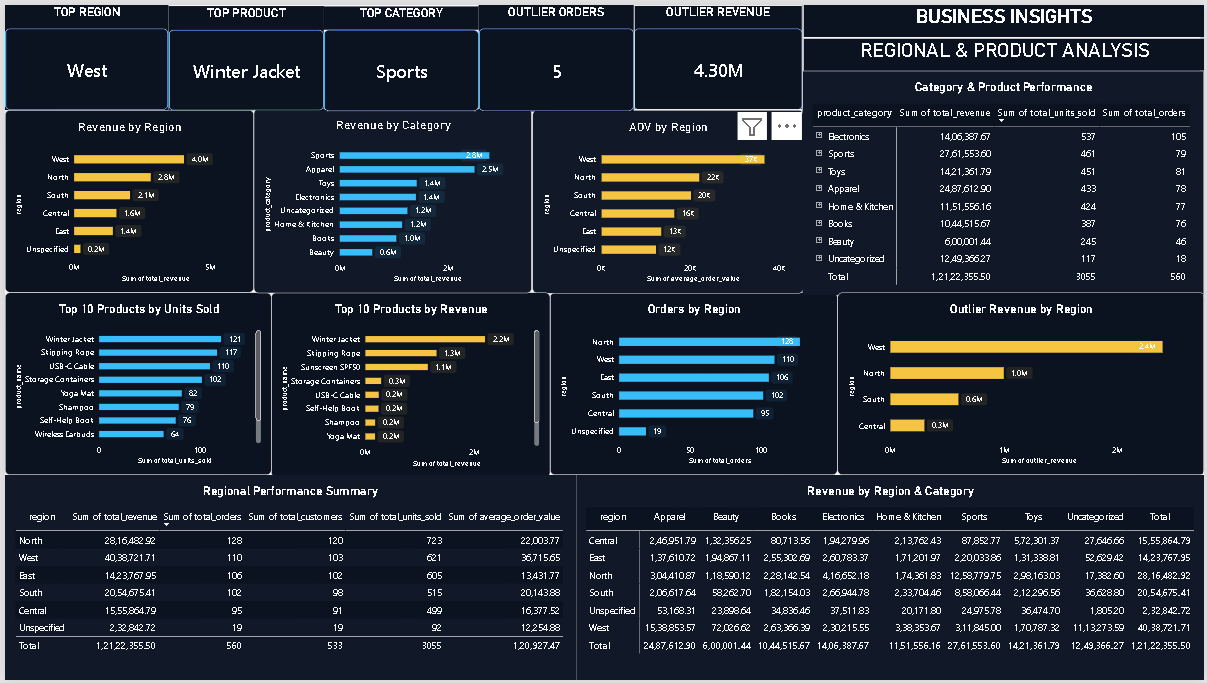

The dashboard page shown, as its layout file describes it:
{"tool":"powerbi","page":{"name":"Regional & Product Analysis","canvas":[1920,1080],"ordinal":1},"visuals":[{"type":"clusteredBarChart","title":"Revenue by Region","fields":{"Category":["public vw_regional_performance.region"],"Y":["Sum(public vw_regional_performance.total_revenue)"]},"box":[0,168,398,292],"z":0},{"type":"clusteredBarChart","title":"Orders by Region","fields":{"Category":["public vw_regional_performance.region"],"Y":["Sum(public vw_regional_performance.total_orders)"]},"box":[871.7,460,460,292],"z":1000},{"type":"clusteredBarChart","title":"AOV by Region","fields":{"Category":["public vw_regional_performance.region"],"Y":["Sum(public vw_regional_performance.average_order_value)"]},"box":[843.8,167.5,433.3,293.3],"z":3000},{"type":"clusteredBarChart","title":"Top 10 Products by Revenue","fields":{"Category":["public vw_product_performance.product_name"],"Y":["Sum(public vw_product_performance.total_revenue)"]},"box":[426,460,446,296],"z":4000},{"type":"clusteredBarChart","title":"Top 10 Products by Units Sold","fields":{"Category":["public vw_product_performance.product_name"],"Y":["Sum(public vw_product_performance.total_units_sold)"]},"box":[0,460,426.7,291.7],"z":5000},{"type":"clusteredBarChart","title":"Revenue by Category","fields":{"Category":["public vw_product_performance.product_category"],"Y":["Sum(public vw_product_performance.total_revenue)"]},"box":[398,166,445,295],"z":6000},{"type":"pivotTable","title":"Category & Product Performance","fields":{"Rows":["public vw_product_performance.product_category","public vw_product_performance.product_name"],"Values":["Sum(public vw_product_performance.total_revenue)","Sum(public vw_product_performance.total_units_sold)","Sum(public vw_product_performance.total_orders)"]},"box":[1276.7,105,643.3,358.3],"z":8000},{"type":"pivotTable","title":"Revenue by Region & Category","fields":{"Columns":["public vw_region_category_performance.product_category"],"Rows":["public vw_region_category_performance.region"],"Values":["Sum(public vw_region_category_performance.total_revenue)"]},"box":[913.3,751.7,1006.7,328.3],"z":9000},{"type":"tableEx","title":"Regional Performance Summary","fields":{"Values":["public vw_regional_performance.region","Sum(public vw_regional_performance.total_revenue)","Sum(public vw_regional_performance.total_orders)","Sum(public vw_regional_performance.total_customers)","Sum(public vw_regional_performance.total_units_sold)","Sum(public vw_regional_performance.average_order_value)"]},"box":[0,751.7,913.3,328.3],"z":10000},{"type":"actionButton","box":[0,0,100,40],"z":11000},{"type":"textbox","title":"BUSINESS INSIGHTS","box":[1278,0,642,54],"z":12000},{"type":"cardVisual","title":"TOP REGION","fields":{"Data":["public vw_monthly_performance.Top Region"]},"box":[0,0,261.7,168.3],"z":12001},{"type":"cardVisual","title":"TOP PRODUCT","fields":{"Data":["public vw_monthly_performance.Top Product"]},"box":[261.7,1.7,248.3,166.7],"z":12002},{"type":"cardVisual","title":"TOP CATEGORY","fields":{"Data":["public vw_monthly_performance.Top Category"]},"box":[510,1.7,248.3,168.3],"z":12003},{"type":"clusteredBarChart","title":"Outlier Revenue by Region","fields":{"Category":["public vw_anomaly_analysis.region"],"Y":["Sum(public vw_anomaly_analysis.outlier_revenue)"]},"box":[1331.7,460,588.3,291.7],"z":12004},{"type":"cardVisual","title":"OUTLIER ORDERS","fields":{"Data":["public vw_anomaly_analysis.Total Outlier Orders"]},"box":[758,0,248,170],"z":12005},{"type":"cardVisual","title":"OUTLIER REVENUE","fields":{"Data":["public vw_anomaly_analysis.Total Outlier Revenue"]},"box":[1006.7,0,270,168.3],"z":12006},{"type":"textbox","title":"REGIONAL & PRODUCT ANALYSIS","box":[1278,54,642,52],"z":12007}]}

Visuals, with their boxes in screenshot pixels (x1, y1, x2, y2), scaled from the page's 1920x1080 canvas onto the 1207x683 screenshot:
"Revenue by Region" clusteredBarChart: <box>0,106,250,291</box>
"Orders by Region" clusteredBarChart: <box>548,291,837,476</box>
"AOV by Region" clusteredBarChart: <box>530,106,803,291</box>
"Top 10 Products by Revenue" clusteredBarChart: <box>268,291,548,478</box>
"Top 10 Products by Units Sold" clusteredBarChart: <box>0,291,268,475</box>
"Revenue by Category" clusteredBarChart: <box>250,105,530,292</box>
"Category & Product Performance" pivotTable: <box>803,66,1206,293</box>
"Revenue by Region & Category" pivotTable: <box>574,475,1206,682</box>
"Regional Performance Summary" tableEx: <box>0,475,574,682</box>
actionButton: <box>0,0,63,25</box>
"BUSINESS INSIGHTS" textbox: <box>803,0,1206,34</box>
"TOP REGION" cardVisual: <box>0,0,165,106</box>
"TOP PRODUCT" cardVisual: <box>165,1,321,106</box>
"TOP CATEGORY" cardVisual: <box>321,1,477,108</box>
"Outlier Revenue by Region" clusteredBarChart: <box>837,291,1206,475</box>
"OUTLIER ORDERS" cardVisual: <box>477,0,632,108</box>
"OUTLIER REVENUE" cardVisual: <box>633,0,803,106</box>
"REGIONAL & PRODUCT ANALYSIS" textbox: <box>803,34,1206,67</box>
